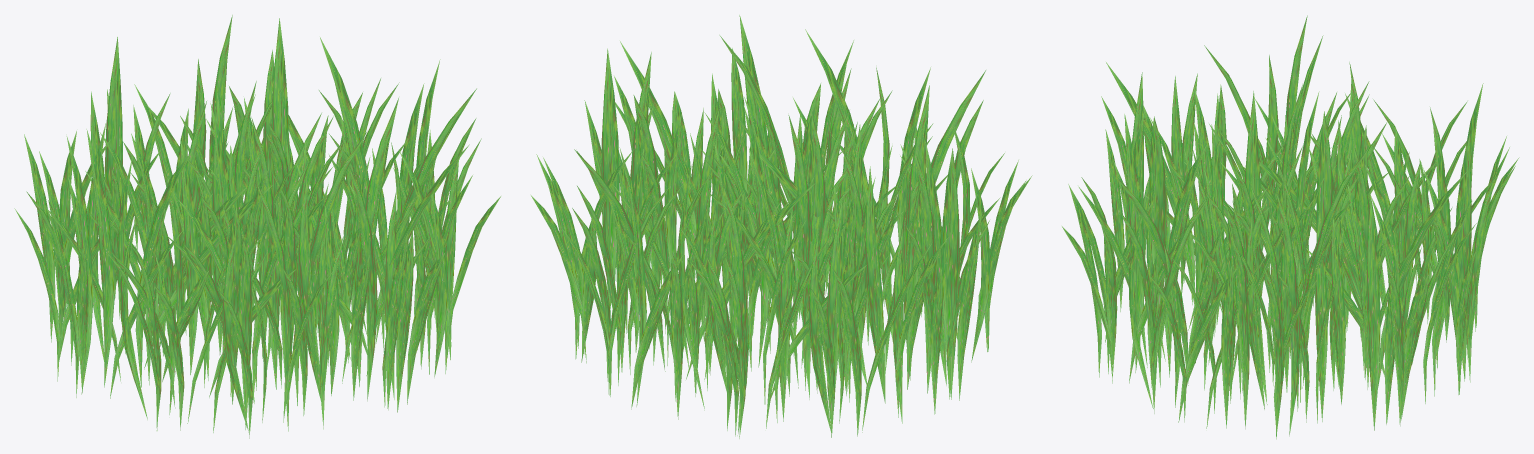
Rendered from grasslevel2.fbx.
3 views of the same model, side by side, from view 1: azimuth 30°, elevation 25°; view 2: azimuth 150°, elevation 25°; view 3: azimuth 270°, elevation 25° (orthographic).
Visible parts, largest first — view 1: grass; view 2: grass; view 3: grass.
Boxes of the visible parts, x1=… form: grass: x1=14, y1=15, x2=500, y2=438; grass: x1=531, y1=15, x2=1032, y2=438; grass: x1=1062, y1=15, x2=1519, y2=439.
Bounding box in the file's own units: 582 × 357 × 565.
Materials: 1 (1 with a texture image).
